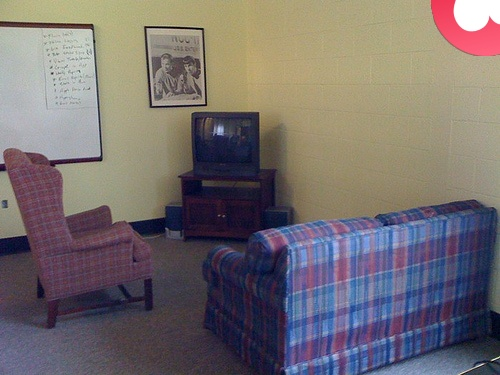love: (431, 0, 500, 56)
